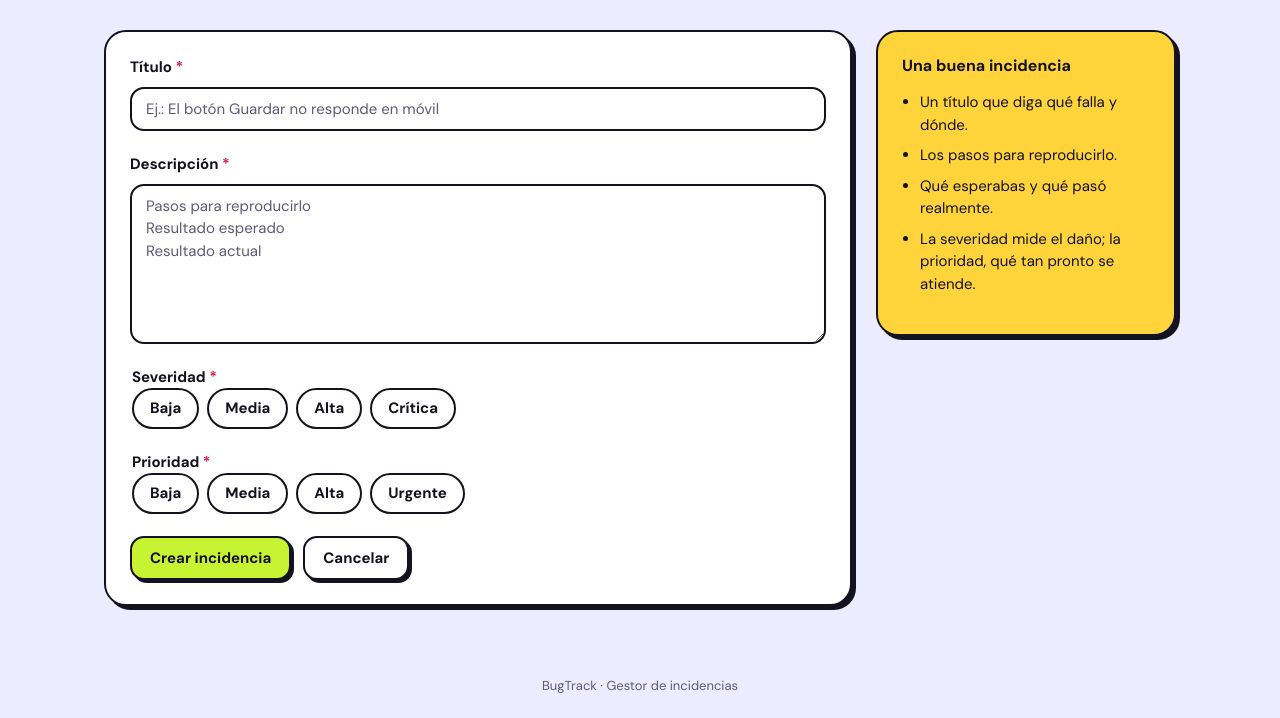
it: Casos negativos › enviar el formulario vacío muestra errores inline en español y no dispara la petición POST
The width and height of the screenshot is (1280, 718).
(page scrolled)
Click the button with test id "issue-form-submit" at (211, 559), box [130,536,291,581]
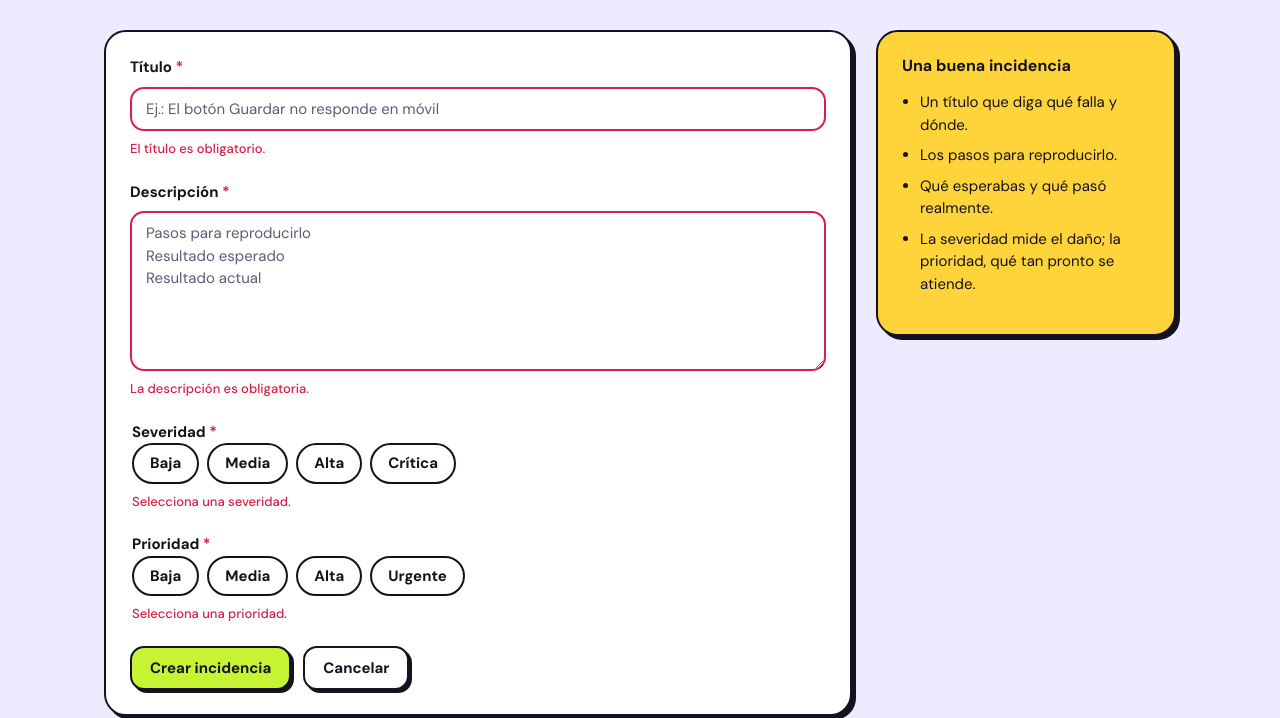
Expected: the message with test id "issue-form-error-title" reads "El título es obligatorio.", [130,140,265,157]
Expected: the message with test id "issue-form-error-description" reads "La descripción es obligatoria.", [130,380,309,397]
Expected: the message with test id "issue-form-error-severity" reads "Selecciona una severidad.", [132,493,291,510]
